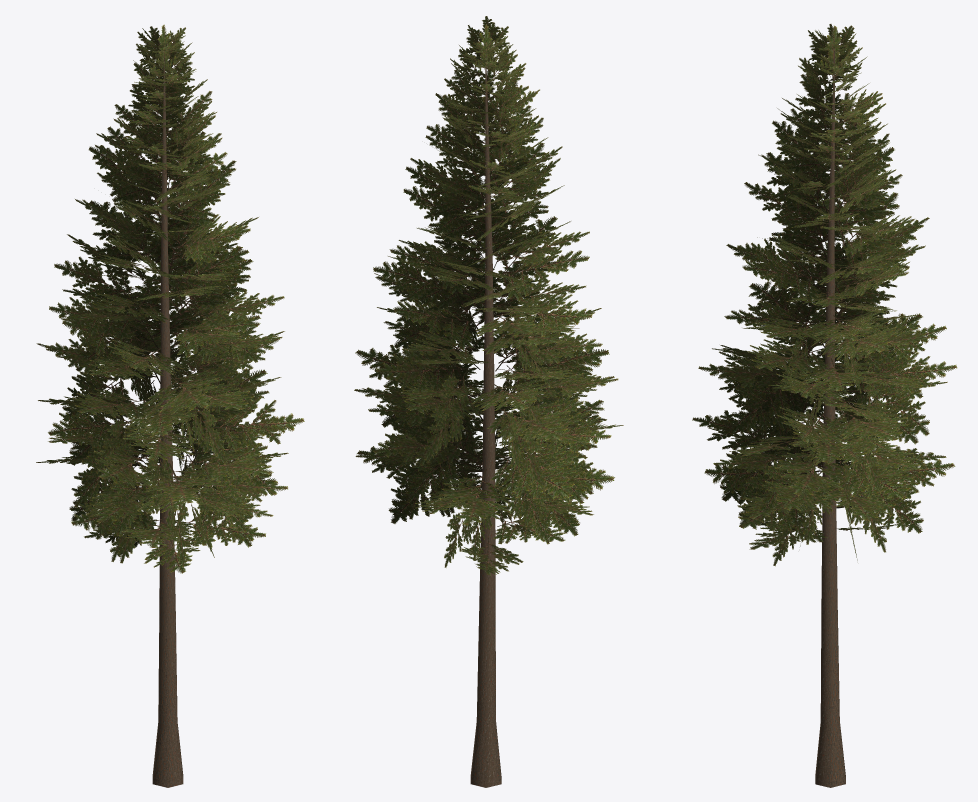
The model's file is fir_tall_b_lod3.gltf.
3 views of the same model, side by side, from view 1: azimuth 30°, elevation 25°; view 2: azimuth 150°, elevation 25°; view 3: azimuth 270°, elevation 25° (orthographic).
Parts seen in each view (by area): view 1: fir_tall_b_LOD3; view 2: fir_tall_b_LOD3; view 3: fir_tall_b_LOD3.
Boxes of the visible parts, x1,y1,x2,y2 form: fir_tall_b_LOD3: (36, 24, 304, 787); fir_tall_b_LOD3: (354, 16, 623, 787); fir_tall_b_LOD3: (692, 24, 957, 787).
Size of the model in its own units: 11.71 by 33.59 by 11.77.
2 materials, 2 textured.
